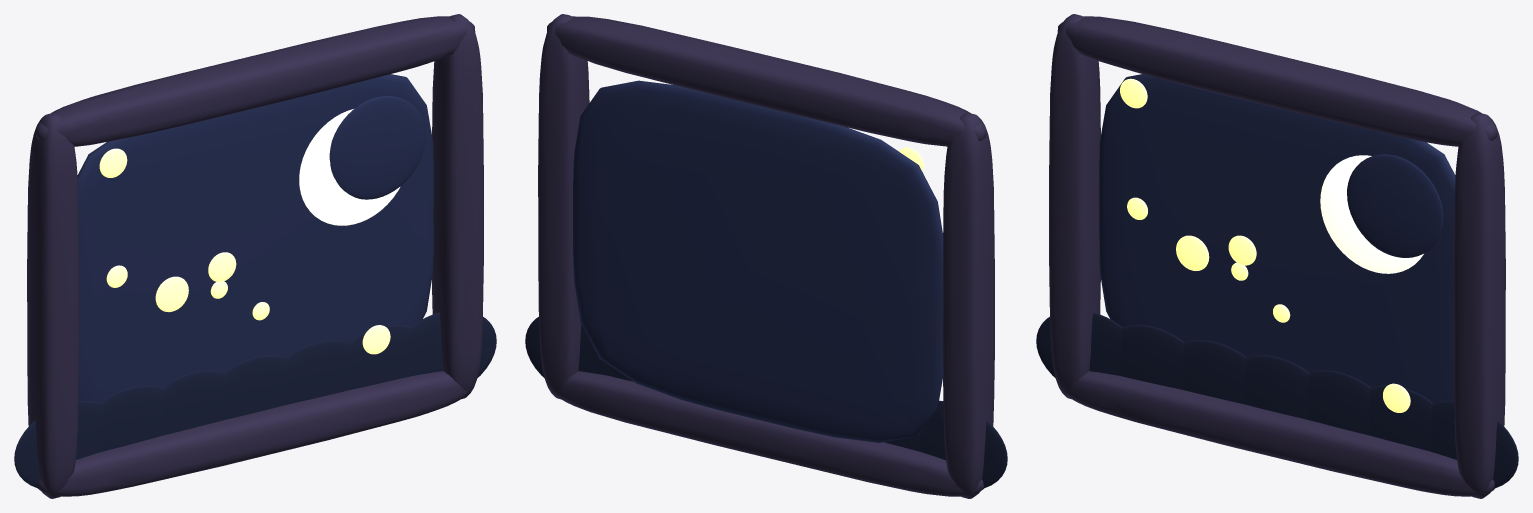
File: deco_cuadro_noche.glb
3 views of the same model, side by side, from view 1: azimuth 30°, elevation 25°; view 2: azimuth 150°, elevation 25°; view 3: azimuth 330°, elevation 25° (orthographic).
Parts seen in each view (by area): view 1: lienzo.010, marco horizontal.021, marco vertical.020, marco horizontal.020, marco vertical.021, sombra luna.001, luna.001, cerro noche 1.001, cerro noche 2.001, cerro noche 4.001, cerro noche 3.001, cerro noche 5.001 (+6 smaller); view 2: lienzo.010, marco horizontal.021, marco vertical.020, marco horizontal.020, marco vertical.021, cerro noche 0.001, cerro noche 6.001; view 3: lienzo.010, marco horizontal.021, marco vertical.021, marco horizontal.020, marco vertical.020, sombra luna.001, luna.001, cerro noche 1.001, cerro noche 2.001, cerro noche 4.001, cerro noche 3.001, cerro noche 5.001 (+6 smaller).
Boxes of the visible parts, box(x1,y1,x2,y2) form: lienzo.010: box(77, 74, 433, 402); marco horizontal.021: box(36, 16, 475, 146); marco vertical.020: box(27, 112, 79, 498); marco horizontal.020: box(38, 371, 467, 496); marco vertical.021: box(432, 14, 483, 398); sombra luna.001: box(329, 96, 425, 199); luna.001: box(299, 109, 400, 225); cerro noche 1.001: box(100, 385, 164, 451); cerro noche 2.001: box(162, 370, 226, 435); cerro noche 4.001: box(286, 340, 350, 404); cerro noche 3.001: box(224, 355, 288, 419); cerro noche 5.001: box(348, 324, 412, 389); lienzo.010: box(573, 80, 942, 442); marco horizontal.021: box(547, 16, 986, 146); marco vertical.020: box(942, 112, 994, 498); marco horizontal.020: box(554, 371, 983, 496); marco vertical.021: box(538, 14, 589, 399); cerro noche 0.001: box(920, 400, 1007, 488); cerro noche 6.001: box(525, 317, 610, 377); lienzo.010: box(1099, 74, 1455, 402); marco horizontal.021: box(1057, 16, 1496, 146); marco vertical.021: box(1453, 112, 1505, 498); marco horizontal.020: box(1066, 371, 1494, 496); marco vertical.020: box(1049, 14, 1100, 398); sombra luna.001: box(1347, 154, 1443, 257); luna.001: box(1320, 155, 1423, 273); cerro noche 1.001: box(1120, 324, 1184, 389); cerro noche 2.001: box(1182, 340, 1246, 404); cerro noche 4.001: box(1306, 370, 1370, 435); cerro noche 3.001: box(1244, 355, 1308, 419); cerro noche 5.001: box(1368, 385, 1433, 451).
Bounding box in the file's own units: 0.6857 × 0.5296 × 0.0598.
